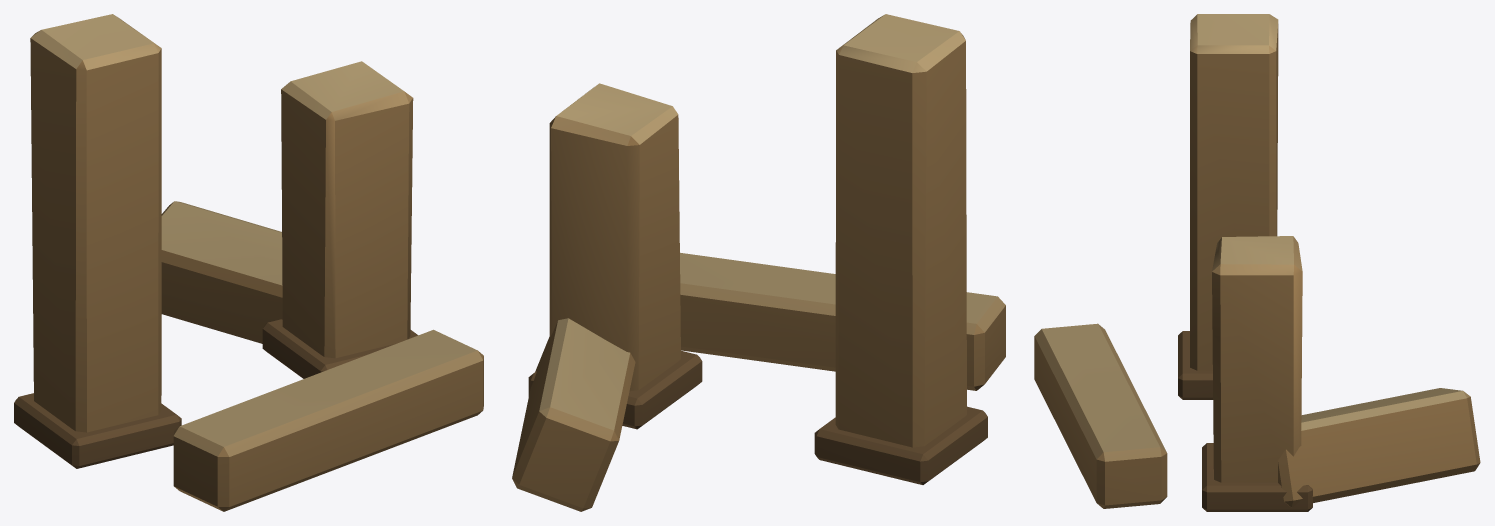
Rendered from desert_ruin_b.glb.
The picture shows the model from 3 angles, left to right: view 1: azimuth 30°, elevation 25°; view 2: azimuth 150°, elevation 25°; view 3: azimuth 270°, elevation 25°; orthographic projection. The views are drawn at different scales.
Visible parts, largest first — view 1: desert_ruin_b; view 2: desert_ruin_b; view 3: desert_ruin_b.
Boxes of the visible parts, box(x1,y1,x2,y2) form: desert_ruin_b: box(14, 14, 483, 511); desert_ruin_b: box(512, 14, 1005, 511); desert_ruin_b: box(1034, 14, 1480, 511).
Bounding box in the file's own units: 1.43 × 1.5 × 1.68.
